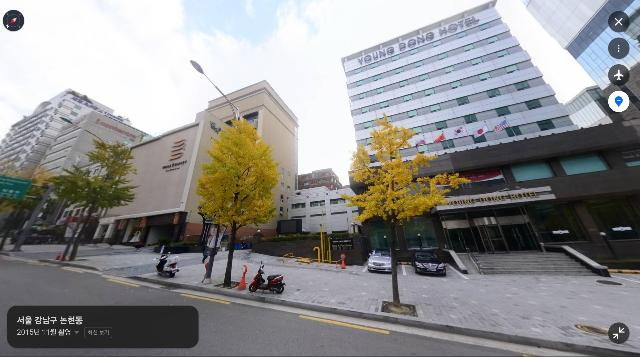ginkgo: (340, 111, 471, 306), (193, 116, 282, 288)
